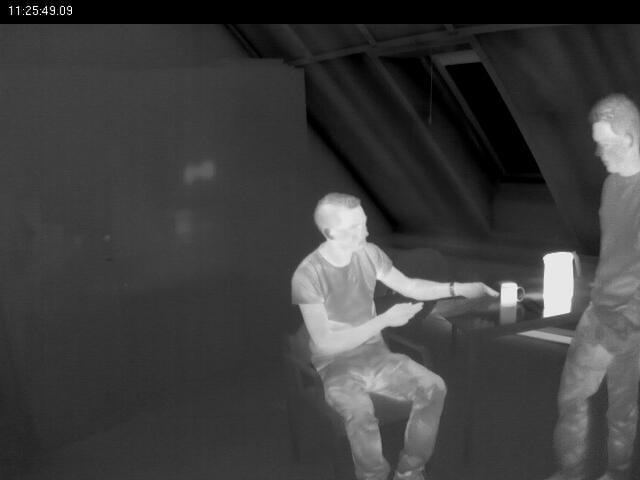person: (290, 192, 492, 480), (542, 77, 640, 480)
